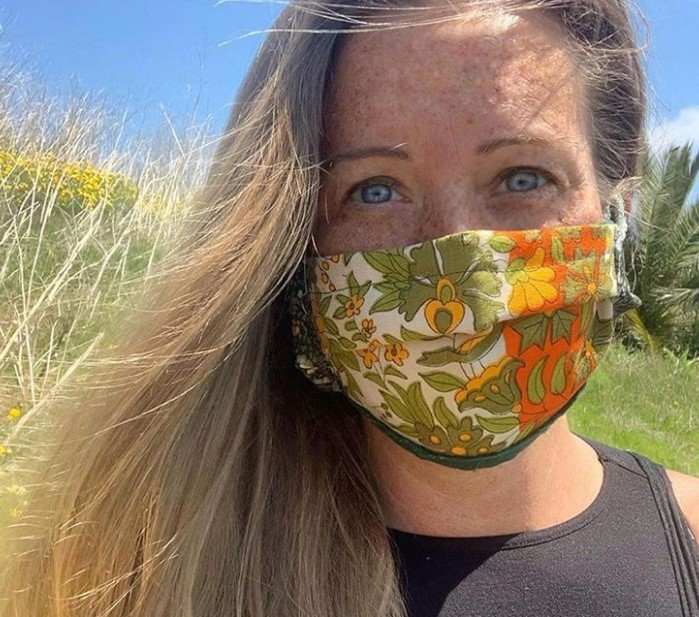face_with_mask: (255, 1, 649, 477)
